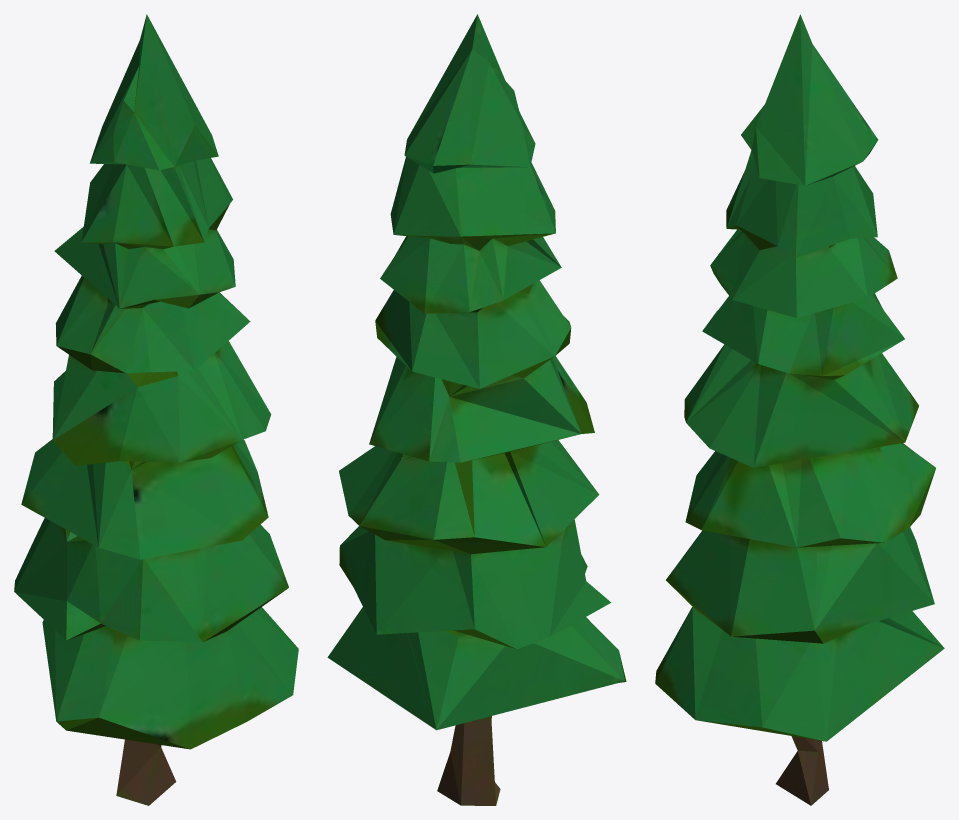
File: tree_02.glb
3 views of the same model, side by side, from view 1: azimuth 30°, elevation 25°; view 2: azimuth 150°, elevation 25°; view 3: azimuth 270°, elevation 25° (orthographic).
Visible parts, largest first — view 1: _2_tree__2_tree_0; view 2: _2_tree__2_tree_0; view 3: _2_tree__2_tree_0.
Boxes of the visible parts, bbox=[...] form: _2_tree__2_tree_0: bbox=[14, 14, 298, 805]; _2_tree__2_tree_0: bbox=[327, 14, 626, 805]; _2_tree__2_tree_0: bbox=[655, 14, 944, 805].
Bounding box in the file's own units: 3.77 × 11 × 3.72.
Materials: 1 (1 with a texture image).
